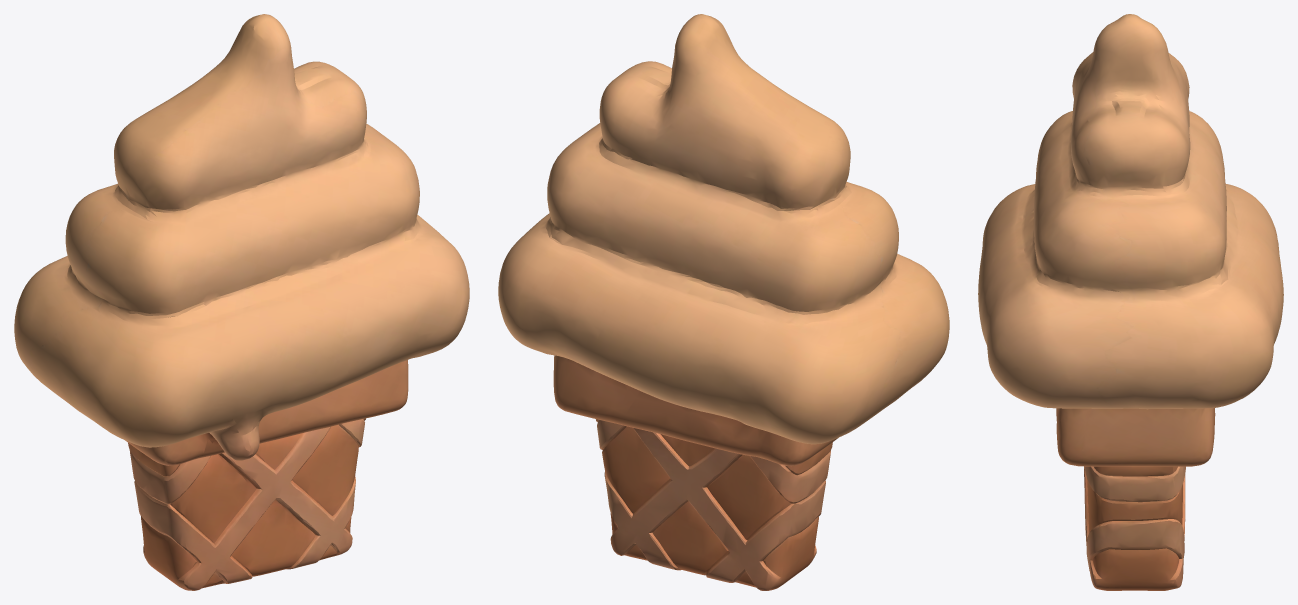
Rendered from ice_cream.glb.
3 renders of one model, left to right at view 1: azimuth 30°, elevation 25°; view 2: azimuth 150°, elevation 25°; view 3: azimuth 270°, elevation 25°, orthographic.
Visible parts, largest first — view 1: model; view 2: model; view 3: model.
Boxes of the visible parts, x1,y1,x2,y2 form: model: [14, 14, 469, 590]; model: [498, 14, 949, 590]; model: [978, 14, 1283, 590].
Bounding box in the file's own units: 0.7186 × 1 × 0.5074.
1 material, 1 textured.
